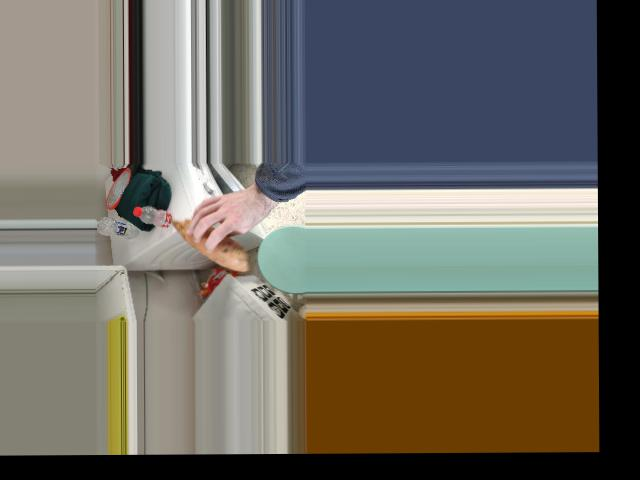sweet_potato: (175, 209, 238, 271)
